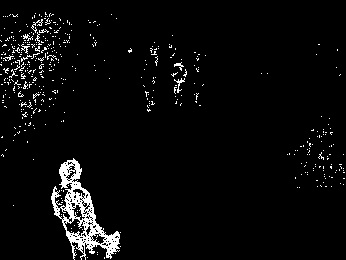person: (50, 158, 122, 260), (170, 58, 187, 109)
